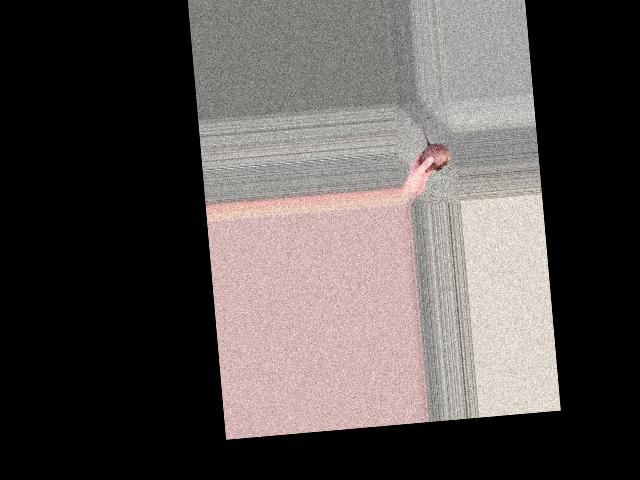beet: (418, 115, 452, 172)
